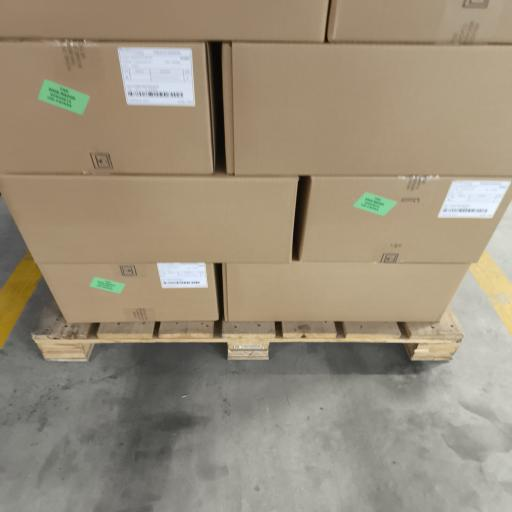pallet: (33, 301, 463, 361)
